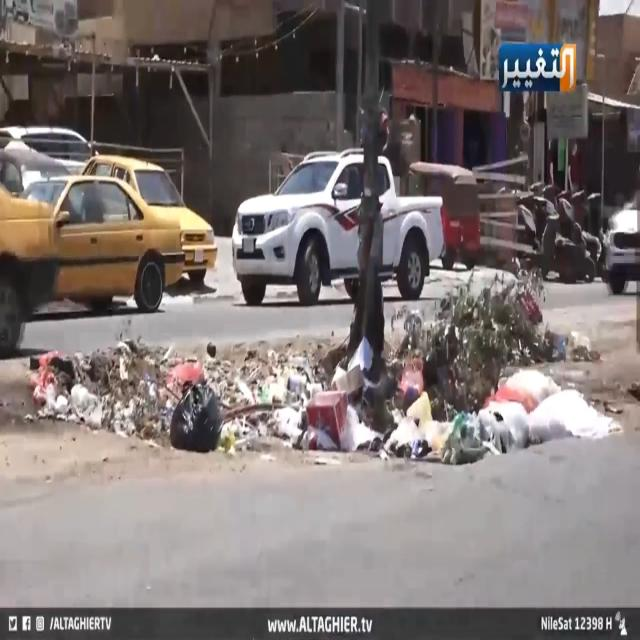high trash: (29, 267, 640, 462)
